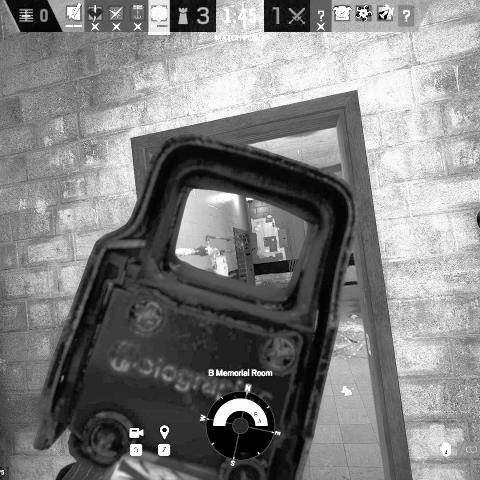Character: (236, 234, 244, 251)
